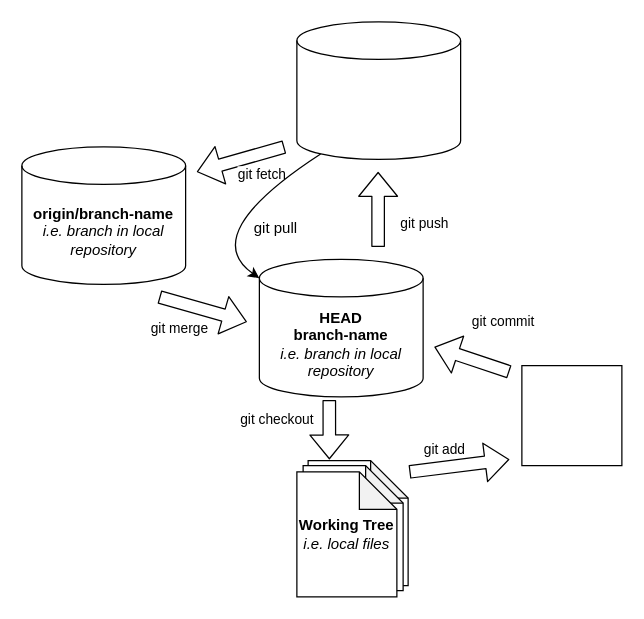
Image size: 644x619. Some labels were removed from this diagram. Each missing label, with the centre of its shape:
brach-name i.e. branch in remote repository: the point at 378,90
Index i.e. staging environment: the point at 571,415
